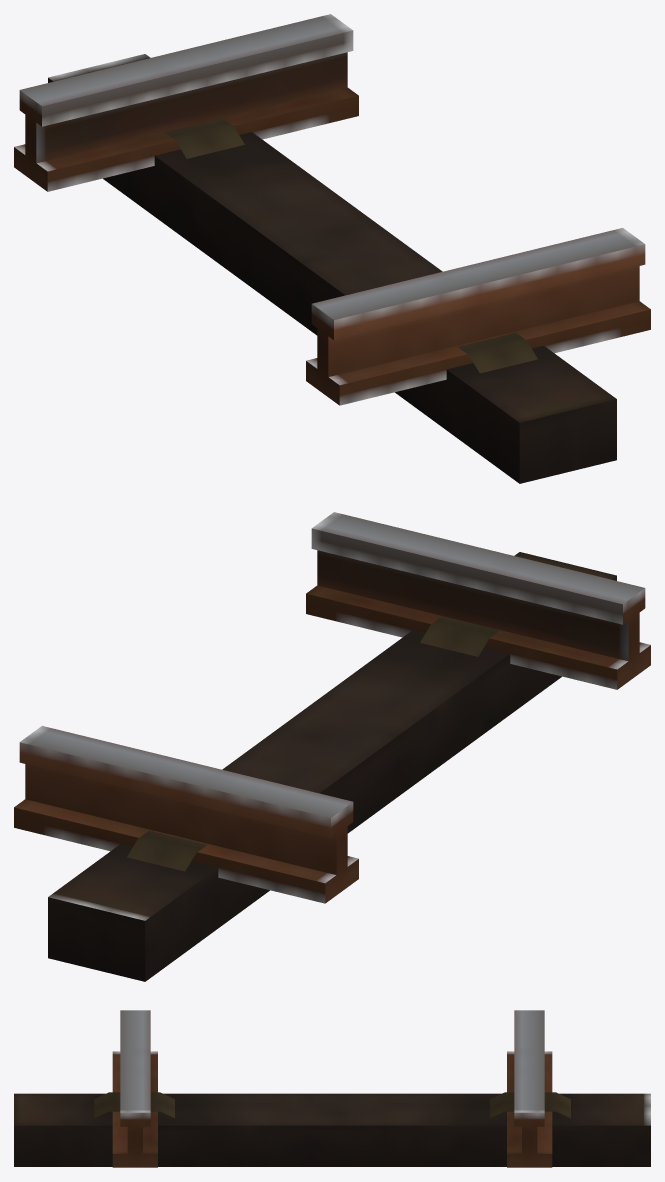
Rendered from mvp_ir_rail.obj.
3 renders of one model, top to bottom at view 1: azimuth 30°, elevation 25°; view 2: azimuth 150°, elevation 25°; view 3: azimuth 270°, elevation 25°, orthographic. The views are drawn at different scales.
Visible parts, largest first — view 1: RAIL_BASE_mvpRail, RAIL_LEFT_mvpRail, RAIL_RIGHT_mvpRail; view 2: RAIL_BASE_mvpRail, RAIL_RIGHT_mvpRail, RAIL_LEFT_mvpRail; view 3: RAIL_BASE_mvpRail, RAIL_LEFT_mvpRail, RAIL_RIGHT_mvpRail.
Boxes of the visible parts, bbox=[...] form: RAIL_BASE_mvpRail: bbox=[48, 54, 616, 483]; RAIL_LEFT_mvpRail: bbox=[306, 228, 650, 405]; RAIL_RIGHT_mvpRail: bbox=[14, 14, 358, 191]; RAIL_BASE_mvpRail: bbox=[48, 552, 616, 981]; RAIL_RIGHT_mvpRail: bbox=[14, 726, 358, 903]; RAIL_LEFT_mvpRail: bbox=[306, 512, 650, 689]; RAIL_BASE_mvpRail: bbox=[14, 1092, 650, 1166]; RAIL_LEFT_mvpRail: bbox=[112, 1010, 157, 1167]; RAIL_RIGHT_mvpRail: bbox=[507, 1010, 552, 1167].
Size of the model in its own units: 1 by 0.4062 by 2.62.
Materials: 1 (1 with a texture image).
